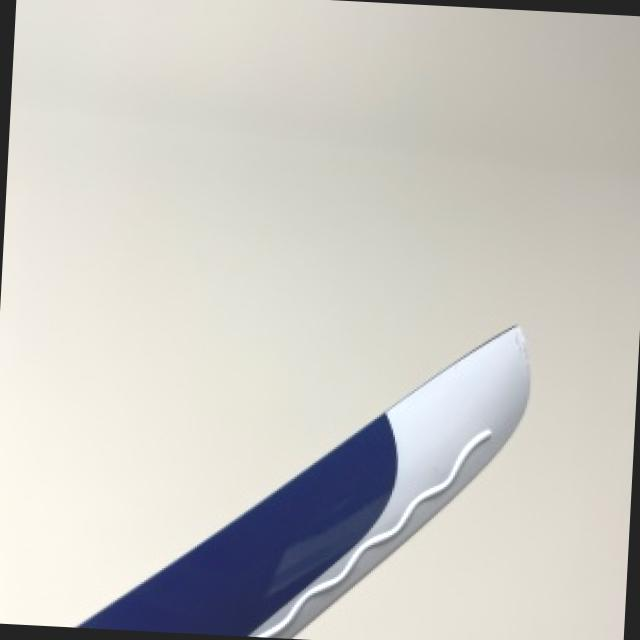healthy: (80, 324, 530, 637)
